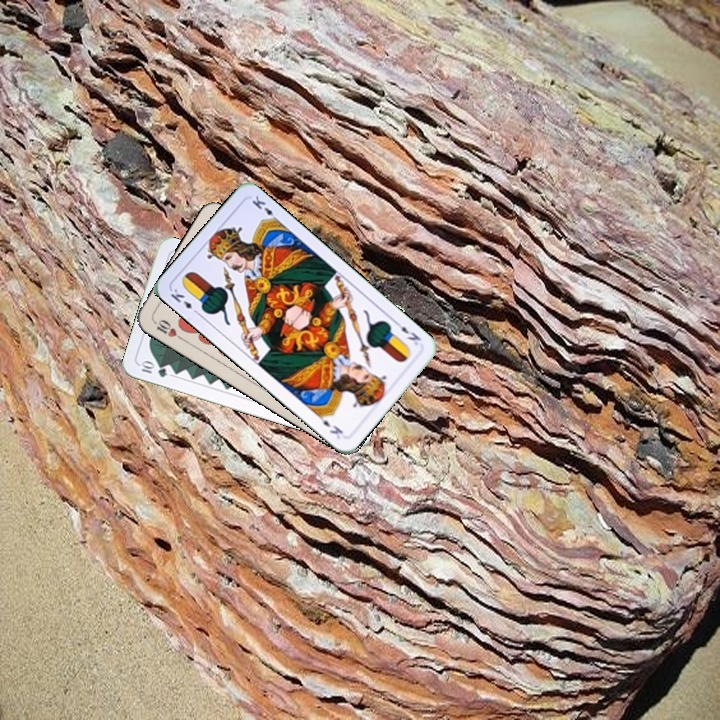EK: (166, 284, 202, 317), (391, 317, 424, 348)
G10: (136, 357, 170, 380)
H10: (150, 315, 186, 343)
